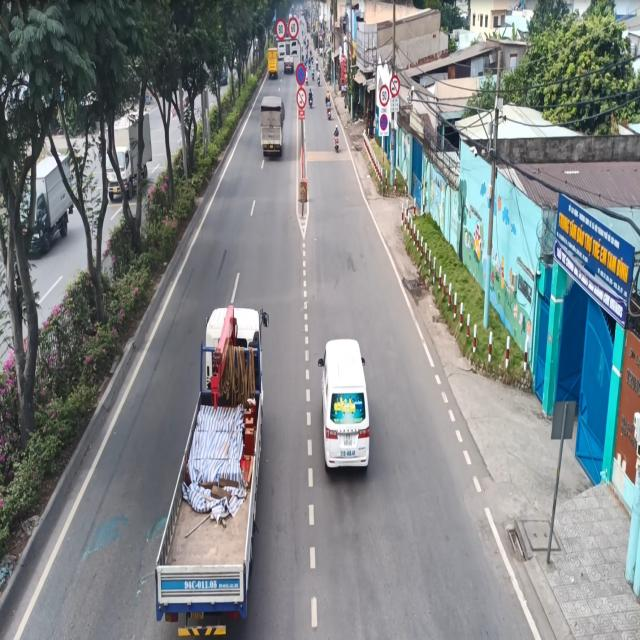car: (314, 331, 381, 486)
motor: (154, 298, 271, 640), (259, 88, 288, 170)
